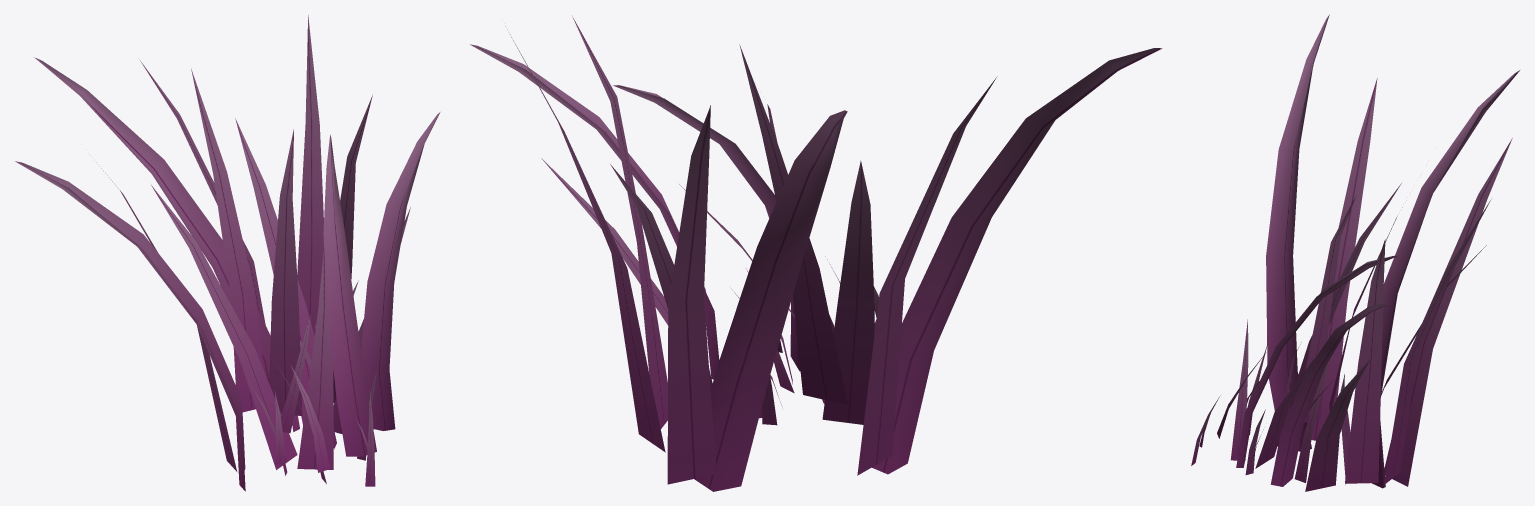
The model's file is grasspivo.fbx.
The picture shows the model from 3 angles, left to right: view 1: azimuth 30°, elevation 25°; view 2: azimuth 150°, elevation 25°; view 3: azimuth 270°, elevation 25°; orthographic projection. The views are drawn at different scales.
Parts seen in each view (by area): view 1: pPlane18; view 2: pPlane18; view 3: pPlane18.
Boxes of the visible parts, x1,y1,x2,y2 form: pPlane18: (15, 15, 440, 491); pPlane18: (470, 16, 1162, 491); pPlane18: (1191, 14, 1519, 491).
Bounding box in the file's own units: 454 × 344 × 301.
1 material, 1 textured.
